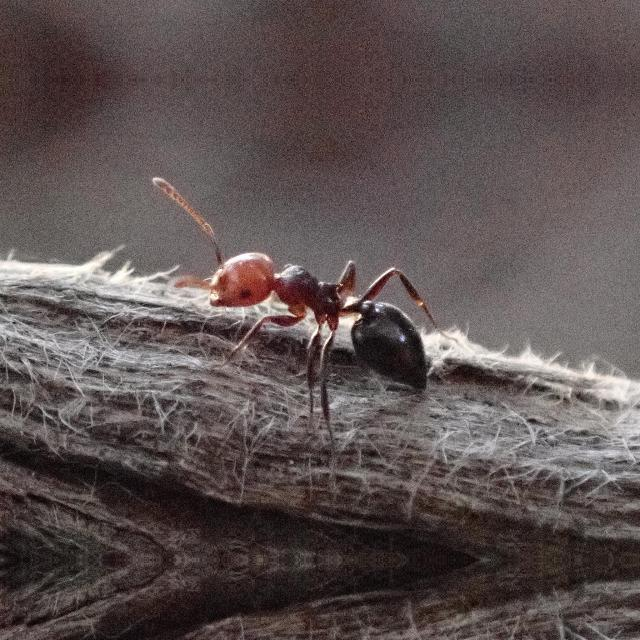Crematogaster: (173, 219, 431, 409)
